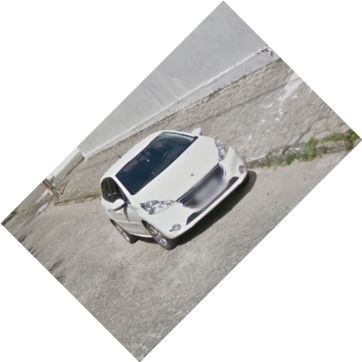car: (98, 128, 255, 251)
